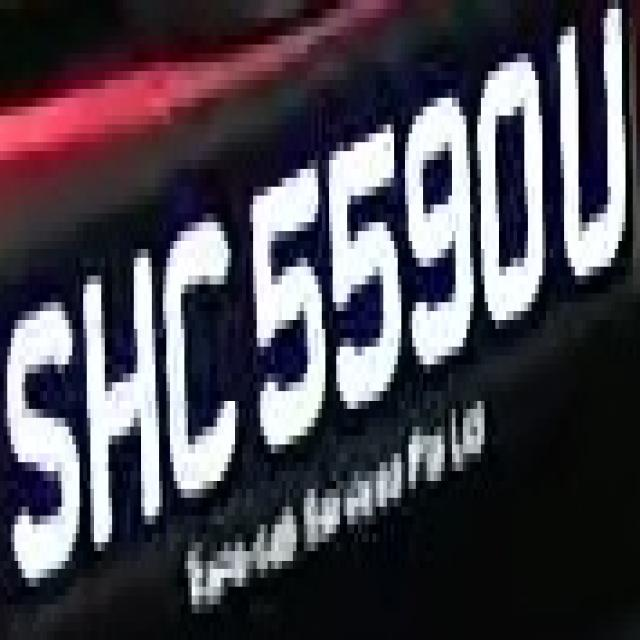0: (470, 53, 557, 311)
5: (314, 107, 398, 436), (235, 160, 325, 462)
9: (394, 80, 485, 391)
C: (159, 178, 242, 524)
H: (76, 231, 166, 560)
S: (4, 276, 80, 596)
U: (550, 27, 636, 293)
